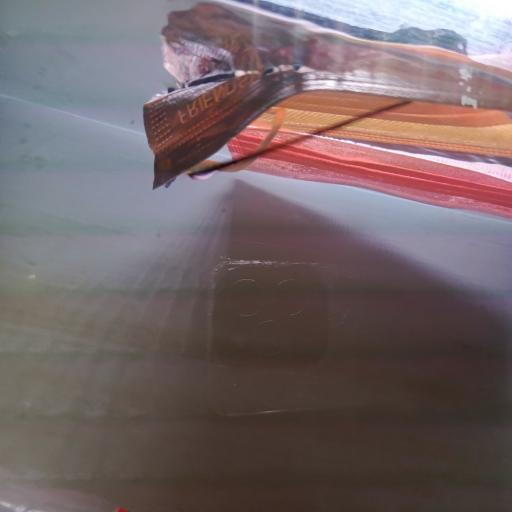mask: (144, 71, 512, 220)
